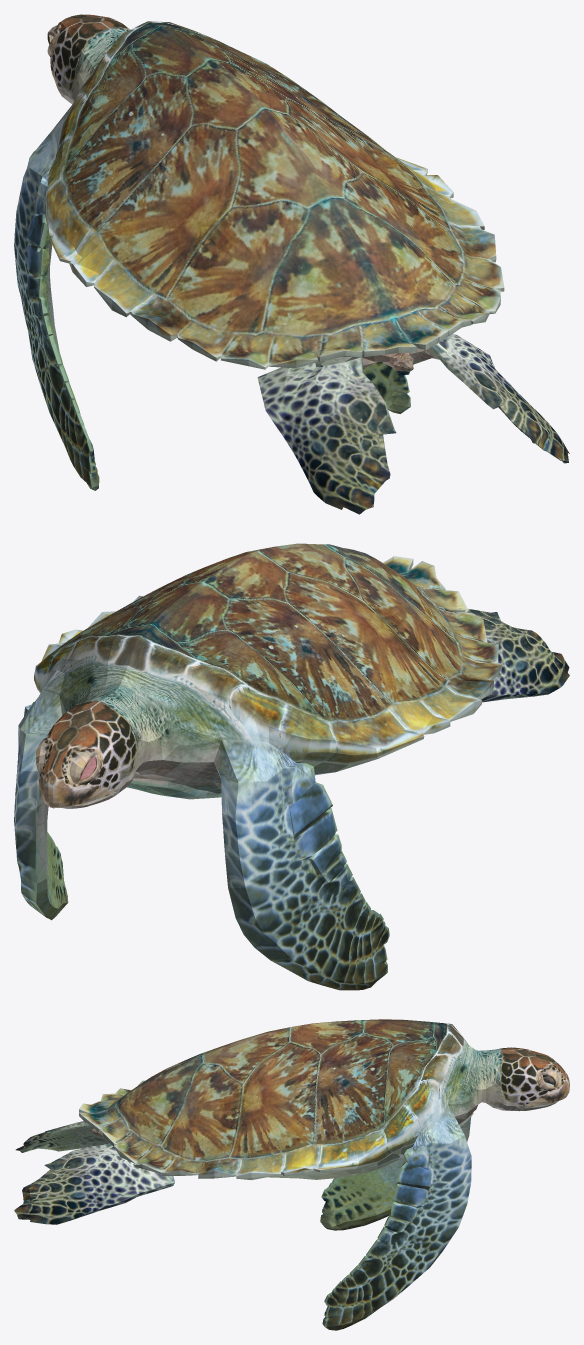
Rendered from frame_17.obj.
3 views of the same model, one above another, from view 1: azimuth 30°, elevation 25°; view 2: azimuth 150°, elevation 25°; view 3: azimuth 270°, elevation 25° (orthographic). The views are drawn at different scales.
Parts seen in each view (by area): view 1: Turtle GEO Turtle; view 2: Turtle GEO Turtle; view 3: Turtle GEO Turtle.
Boxes of the visible parts, left/top/right/bottom form: Turtle GEO Turtle: left=14, top=14, right=569, bottom=514; Turtle GEO Turtle: left=14, top=543, right=569, bottom=990; Turtle GEO Turtle: left=14, top=1019, right=569, bottom=1330.
Bounding box in the file's own units: 51.12 × 50.36 × 98.64.
1 material, 1 textured.
